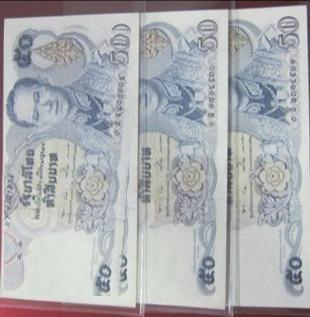50BahtTai: (4, 20, 138, 296)
